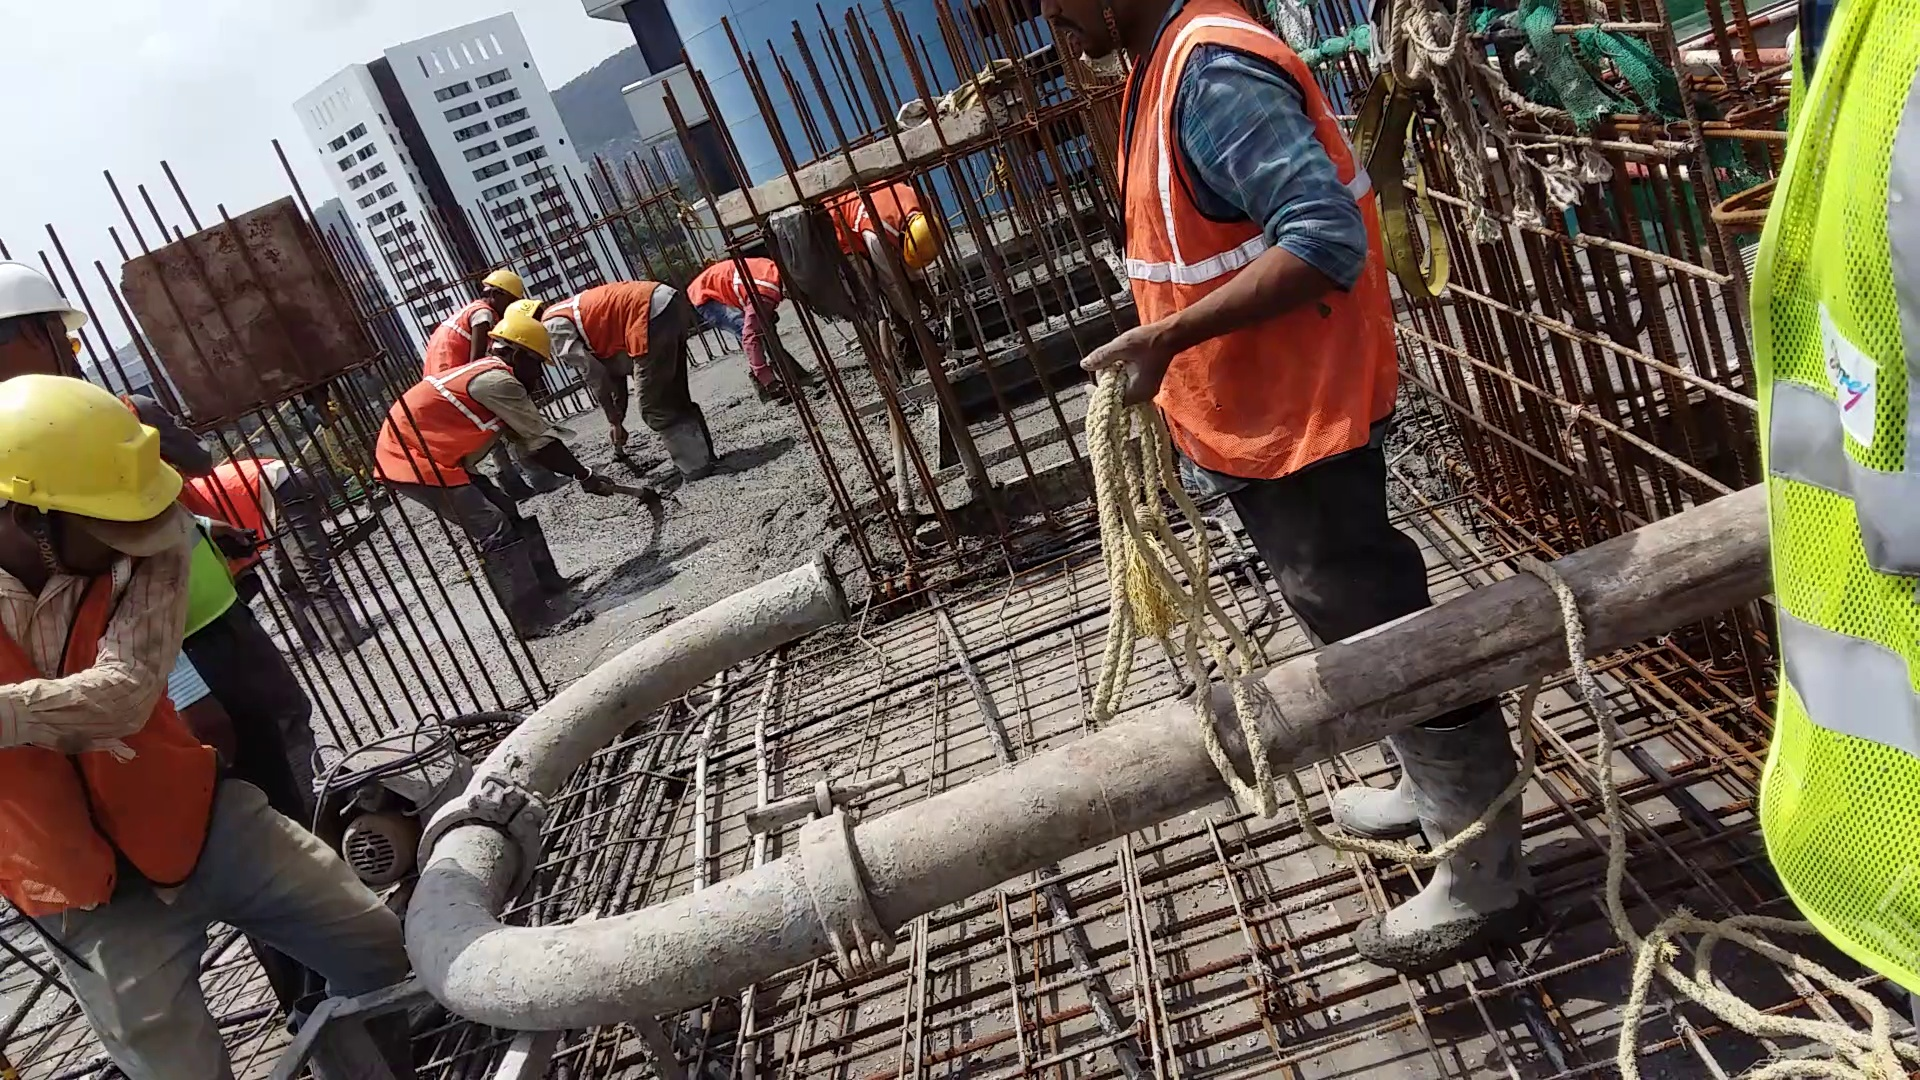SAFE: (1, 371, 200, 920), (367, 320, 549, 483)
